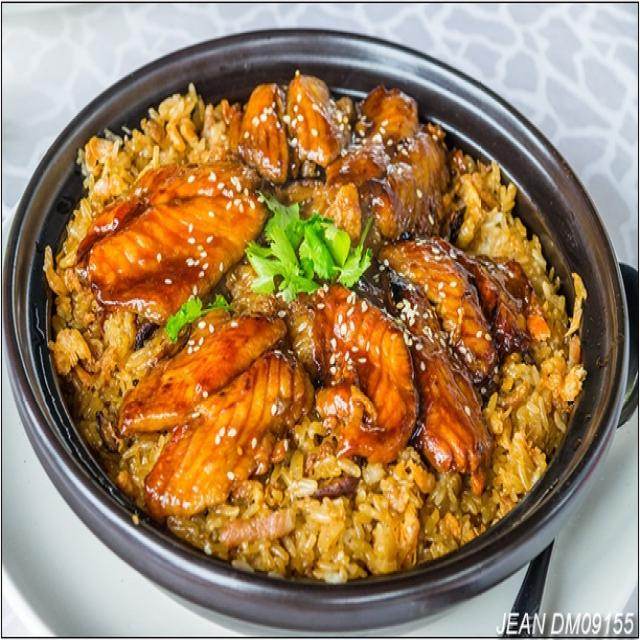米饭主食: (20, 20, 623, 615)
